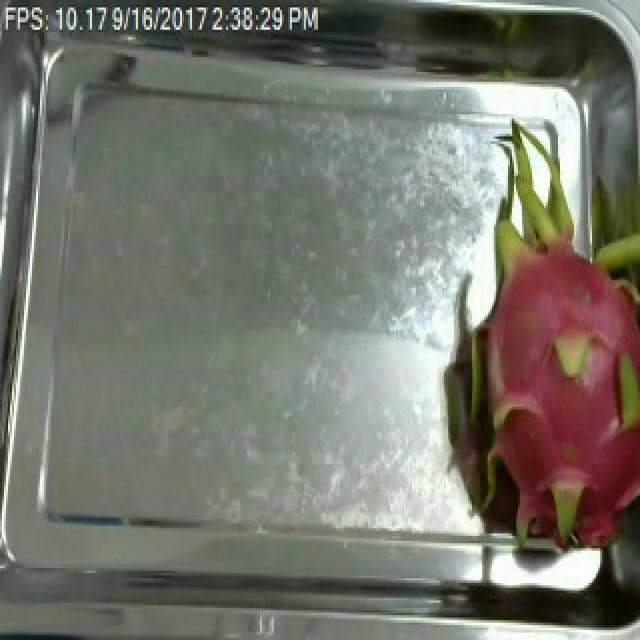fruit: (400, 139, 640, 580)
